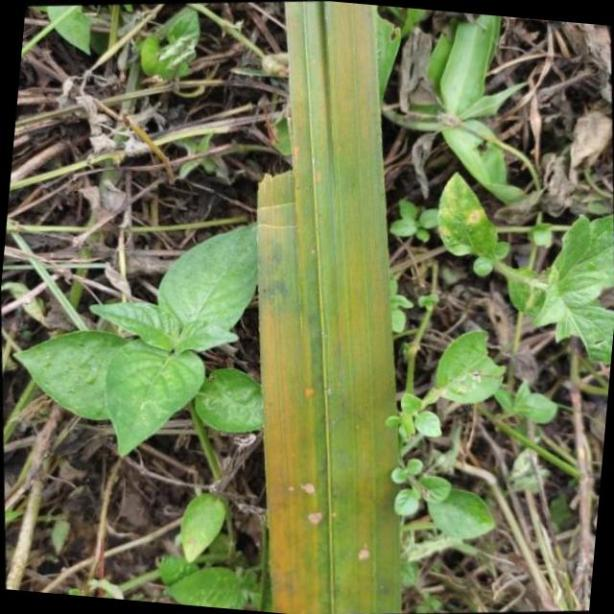Megnesium: (251, 0, 406, 614)
